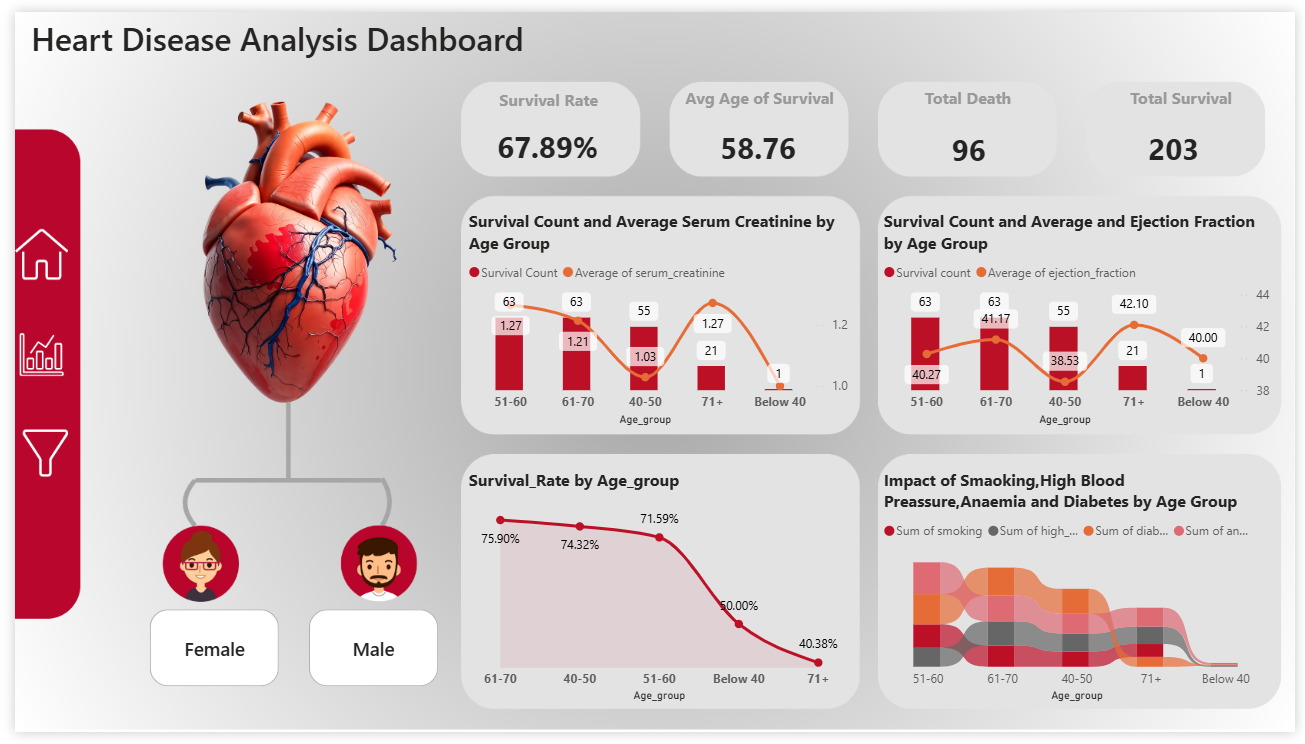

The page's visual inventory and layout, read from the dashboard file:
{"tool":"powerbi","page":{"name":"Page 1","canvas":[1280,720],"ordinal":0},"visuals":[{"type":"textbox","box":[10.7,0,535.7,55.2],"z":0},{"type":"card","fields":{"Values":["heart_Disease_clinical_records.Survival_Rate"]},"box":[466.3,94.3,133.5,83.6],"z":1},{"type":"card","fields":{"Values":["heart_Disease_clinical_records.Average_Age_Survival"]},"box":[683.4,101.4,119.2,71.2],"z":2},{"type":"card","fields":{"Values":["heart_Disease_clinical_records.Total_Survival"]},"box":[1089.2,106.8,140.6,62.3],"z":3},{"type":"card","fields":{"Values":["heart_Disease_clinical_records.Total_Death"]},"box":[886.3,108.6,135.3,58.7],"z":4},{"type":"textbox","box":[462.7,71.2,142.4,33.8],"z":5},{"type":"textbox","box":[660.3,69.4,169.1,40.9],"z":6},{"type":"textbox","box":[1089.2,69.4,154.8,33.8],"z":7},{"type":"textbox","box":[898.8,69.4,108.6,37.4],"z":8},{"type":"lineClusteredColumnComboChart","title":"Survival Count and Average Serum Creatinine by Age Group","fields":{"Category":["heart_Disease_clinical_records.Age_group"],"Y":["CountNonNull(heart_Disease_clinical_records.DEATH_EVENT)"],"Y2":["Avg(heart_Disease_clinical_records.serum_creatinine)"]},"box":[448.5,197.6,391.6,220.7],"z":13},{"type":"lineClusteredColumnComboChart","title":"Survival Count and Average and Ejection Fraction by Age Group","fields":{"Category":["heart_Disease_clinical_records.Age_group"],"Y":["CountNonNull(heart_Disease_clinical_records.DEATH_EVENT)"],"Y2":["Avg(heart_Disease_clinical_records.ejection_fraction)"]},"box":[863.2,197.6,396.9,220.7],"z":14},{"type":"lineChart","fields":{"Category":["heart_Disease_clinical_records.Age_group"],"Y":["heart_Disease_clinical_records.Survival_Rate"]},"box":[448.5,455.6,391.6,238.5],"z":15},{"type":"ribbonChart","title":"Impact of Smaoking,High Blood Preassure,Anaemia and Diabetes by Age Group","fields":{"Category":["heart_Disease_clinical_records.Age_group"],"Y":["Sum(heart_Disease_clinical_records.smoking)","Sum(heart_Disease_clinical_records.high_blood_pressure)","Sum(heart_Disease_clinical_records.diabetes)","Sum(heart_Disease_clinical_records.anaemia)"]},"box":[863.2,455.6,396.9,238.5],"z":16},{"type":"advancedSlicerVisual","fields":{"Values":["heart_Disease_clinical_records.Gender"]},"box":[129.9,592.7,299,87.2],"z":17}]}

Visuals, with their boxes in screenshot pixels (x1, y1, x2, y2), scaled from the page's 1280x720 canvas onto the 1305x744 screenshot:
textbox: {"x1": 11, "y1": 0, "x2": 557, "y2": 57}
card - heart_Disease_clinical_records.Survival_Rate: {"x1": 475, "y1": 97, "x2": 612, "y2": 184}
card - heart_Disease_clinical_records.Average_Age_Survival: {"x1": 697, "y1": 105, "x2": 818, "y2": 178}
card - heart_Disease_clinical_records.Total_Survival: {"x1": 1110, "y1": 110, "x2": 1254, "y2": 175}
card - heart_Disease_clinical_records.Total_Death: {"x1": 904, "y1": 112, "x2": 1042, "y2": 173}
textbox: {"x1": 472, "y1": 74, "x2": 617, "y2": 109}
textbox: {"x1": 673, "y1": 72, "x2": 846, "y2": 114}
textbox: {"x1": 1110, "y1": 72, "x2": 1268, "y2": 107}
textbox: {"x1": 916, "y1": 72, "x2": 1027, "y2": 110}
"Survival Count and Average Serum Creatinine by Age Group" lineClusteredColumnComboChart: {"x1": 457, "y1": 204, "x2": 857, "y2": 432}
"Survival Count and Average and Ejection Fraction by Age Group" lineClusteredColumnComboChart: {"x1": 880, "y1": 204, "x2": 1285, "y2": 432}
lineChart - heart_Disease_clinical_records.Age_group x heart_Disease_clinical_records.Survival_Rate: {"x1": 457, "y1": 471, "x2": 857, "y2": 717}
"Impact of Smaoking,High Blood Preassure,Anaemia and Diabetes by Age Group" ribbonChart: {"x1": 880, "y1": 471, "x2": 1285, "y2": 717}
advancedSlicerVisual - heart_Disease_clinical_records.Gender: {"x1": 132, "y1": 612, "x2": 437, "y2": 703}
